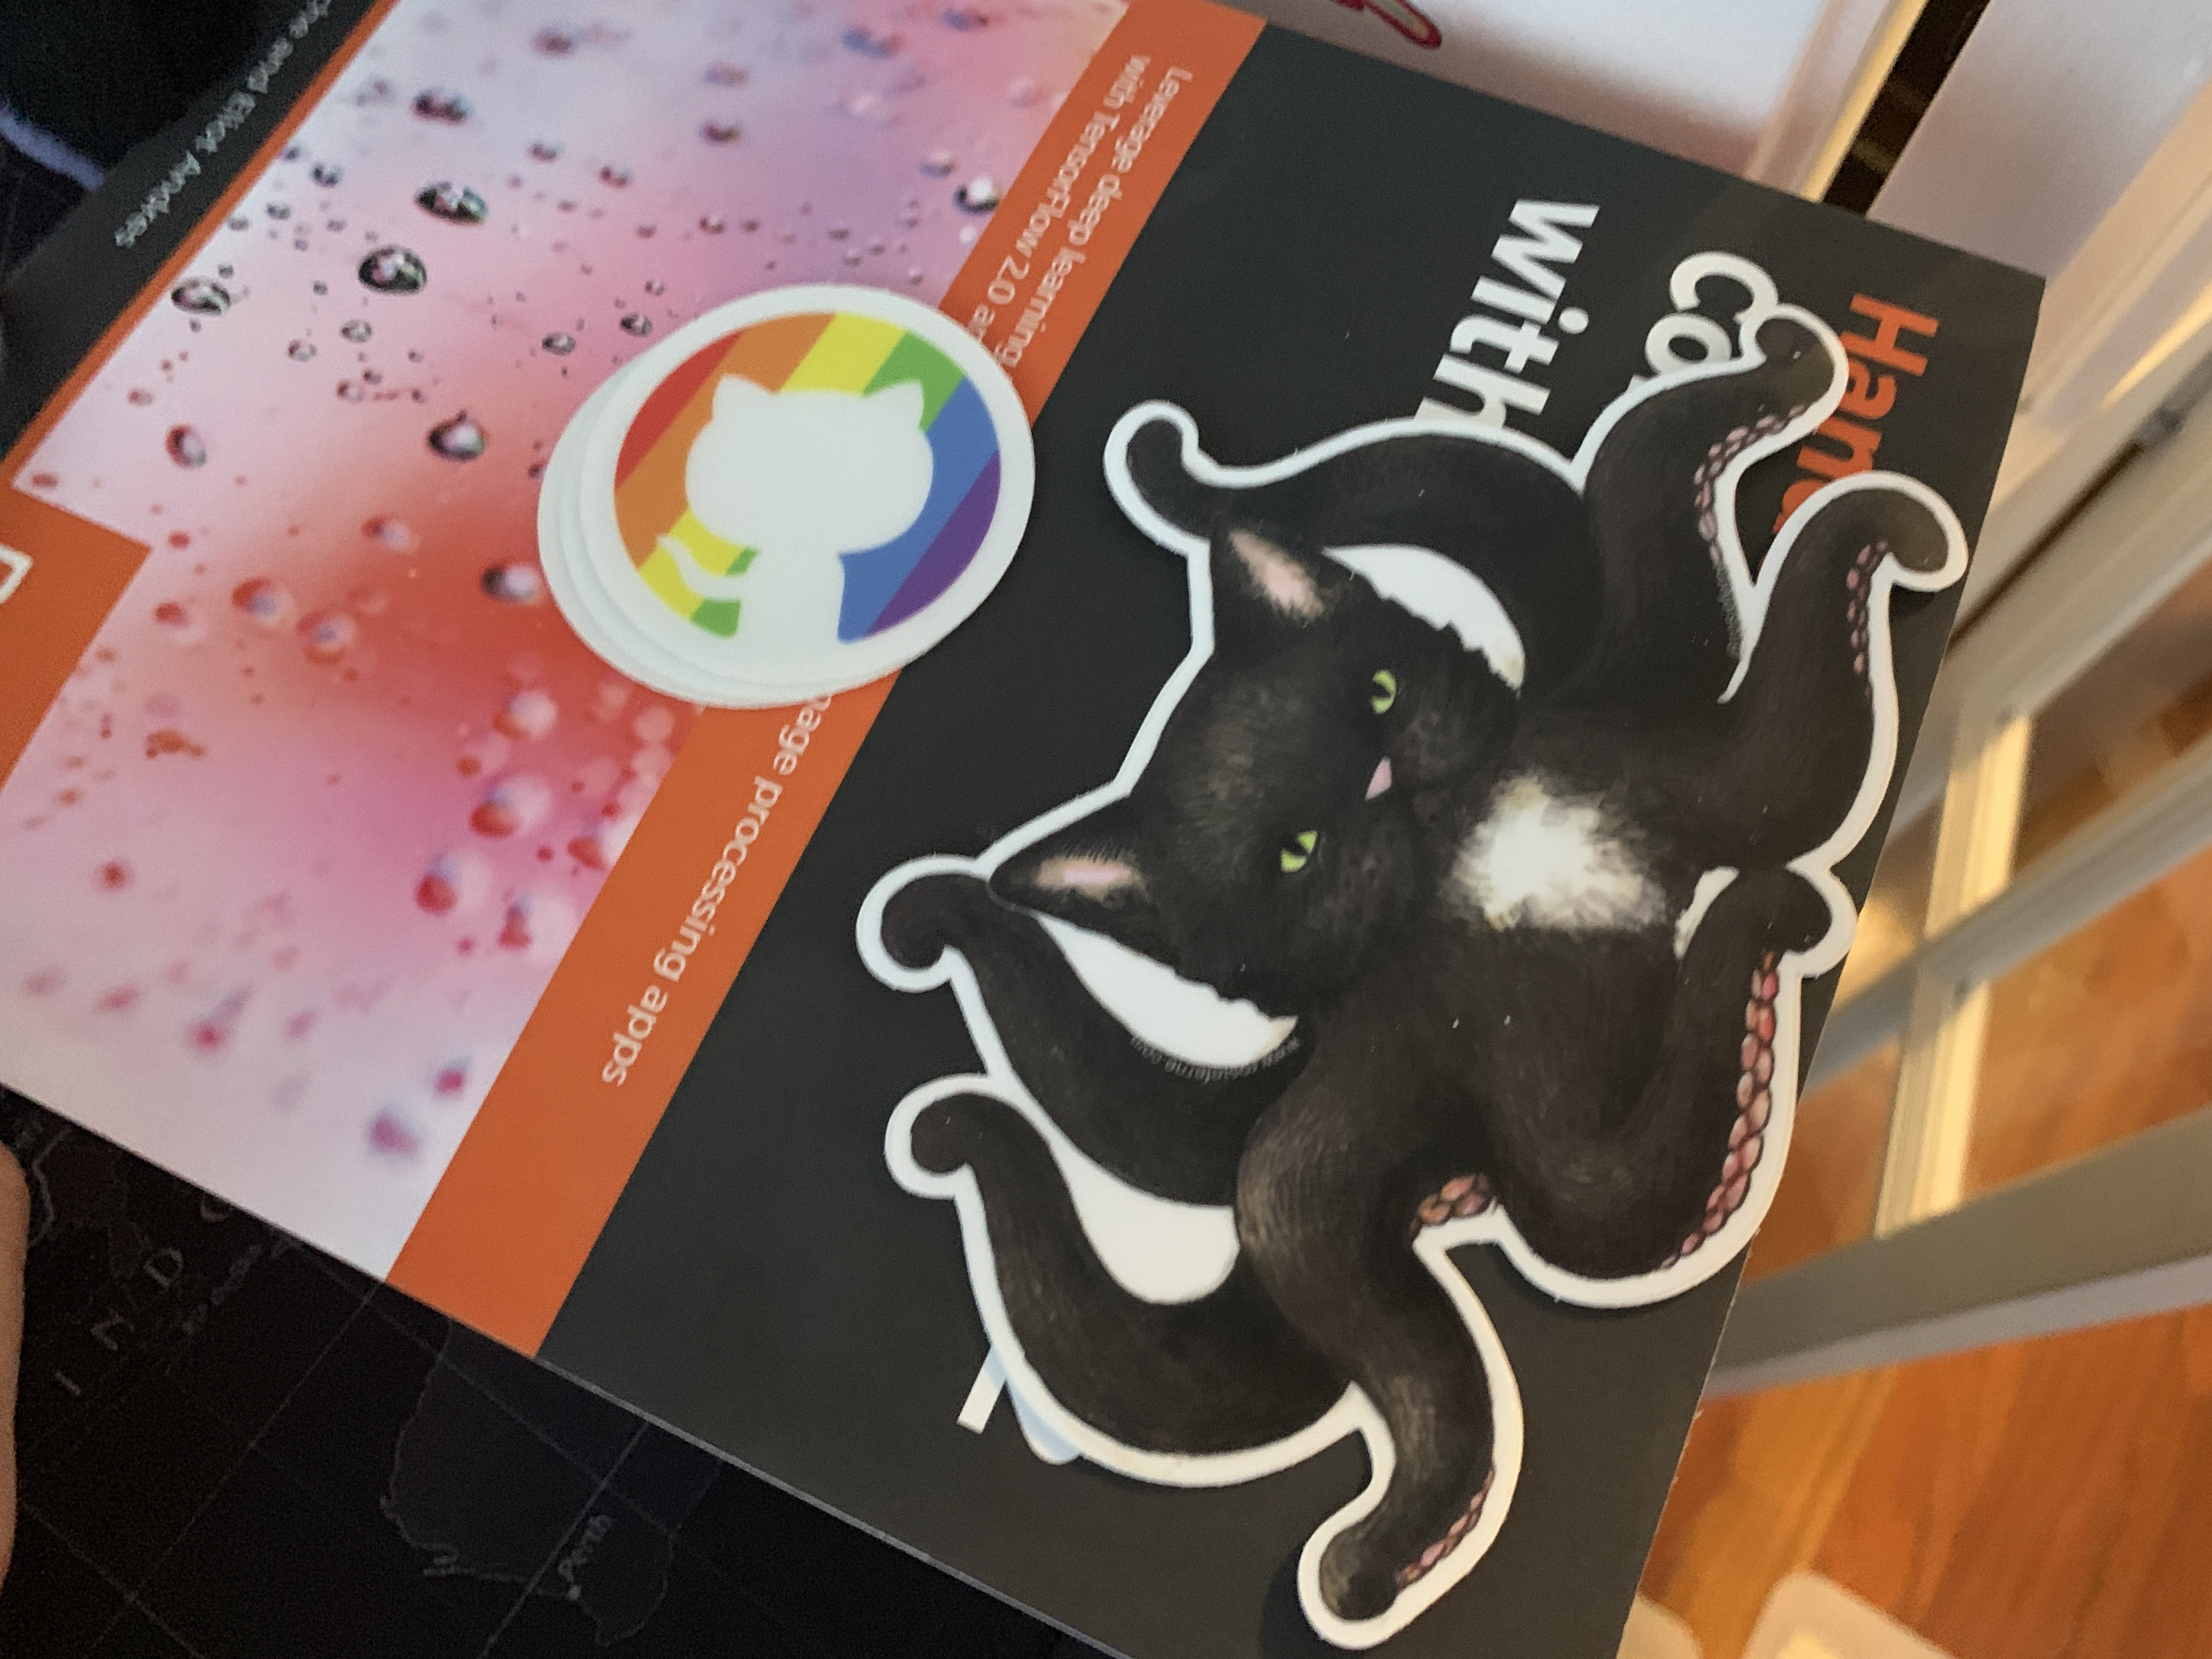Octocat-OffBrand: (873, 317, 2047, 1656)
Pride: (529, 267, 1059, 723)
